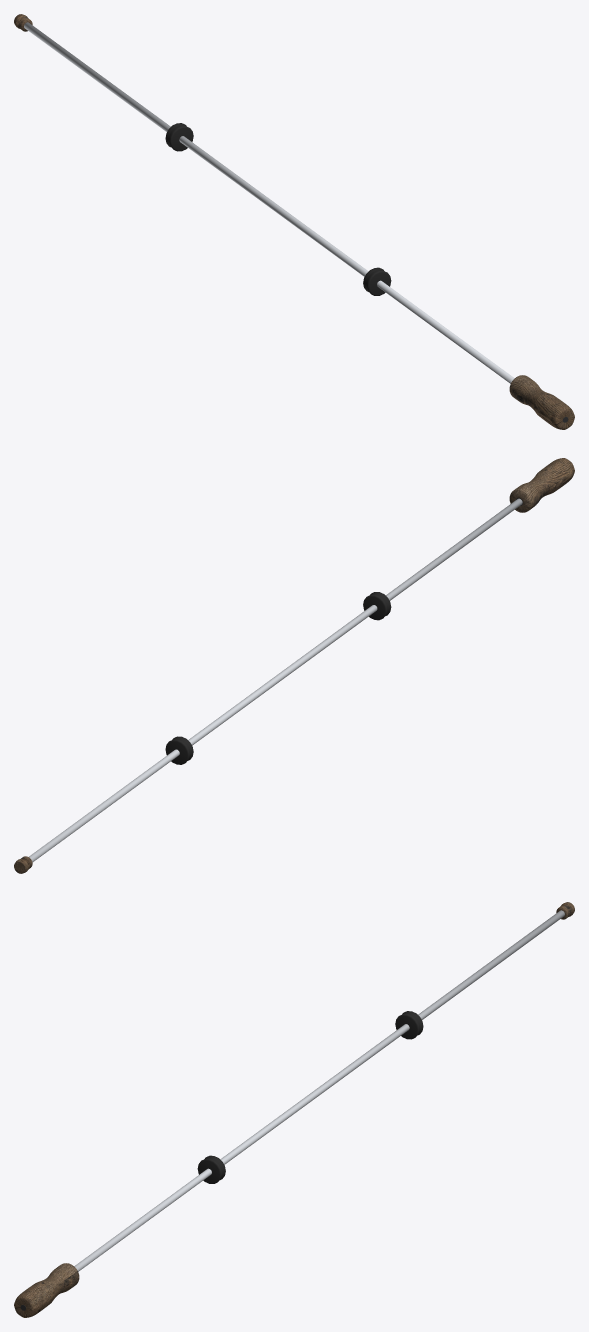
Rendered from fuzeball_rod_3man.glb.
The picture shows the model from 3 angles, top to bottom: view 1: azimuth 30°, elevation 25°; view 2: azimuth 150°, elevation 25°; view 3: azimuth 330°, elevation 25°; orthographic projection.
Visible parts, largest first — view 1: rod3_bar.004, rod3_handle.wood, CylinderR.008, CylinderL.006; view 2: rod3_bar.004, rod3_handle.wood, CylinderR.008, CylinderL.006; view 3: rod3_bar.004, rod3_handle.wood, CylinderR.008, CylinderL.006.
Part boxes in pixels (x1,y1,x2,y2): rod3_bar.004: [24, 22, 514, 383]; rod3_handle.wood: [509, 375, 574, 429]; CylinderR.008: [165, 123, 193, 151]; CylinderL.006: [363, 267, 391, 295]; rod3_bar.004: [29, 498, 522, 862]; rod3_handle.wood: [509, 458, 574, 512]; CylinderR.008: [165, 736, 193, 764]; CylinderL.006: [363, 592, 391, 620]; rod3_bar.004: [74, 910, 564, 1271]; rod3_handle.wood: [14, 1263, 79, 1317]; CylinderR.008: [395, 1011, 423, 1039]; CylinderL.006: [197, 1155, 225, 1183].
Bounding box in the file's own units: 3.02 × 3.02 × 120.
Materials: 5 (1 with a texture image).
